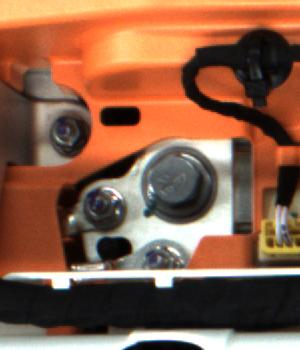nut_b: (138, 139, 229, 223)
screw_s: (77, 185, 120, 230), (43, 114, 81, 151), (144, 249, 177, 273)
